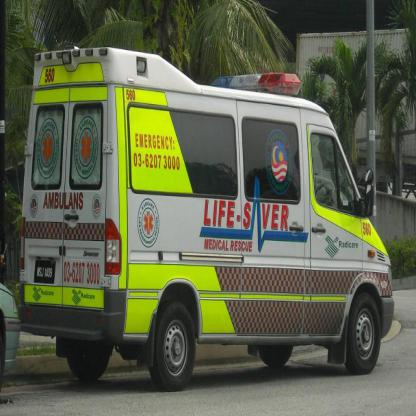Ambulance: (18, 45, 402, 391)
